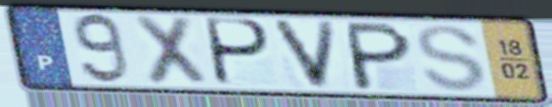9: (73, 11, 134, 88)
P: (205, 15, 275, 89), (345, 20, 415, 93)
S: (413, 22, 490, 94)
V: (267, 17, 341, 92)
X: (129, 12, 212, 89)
